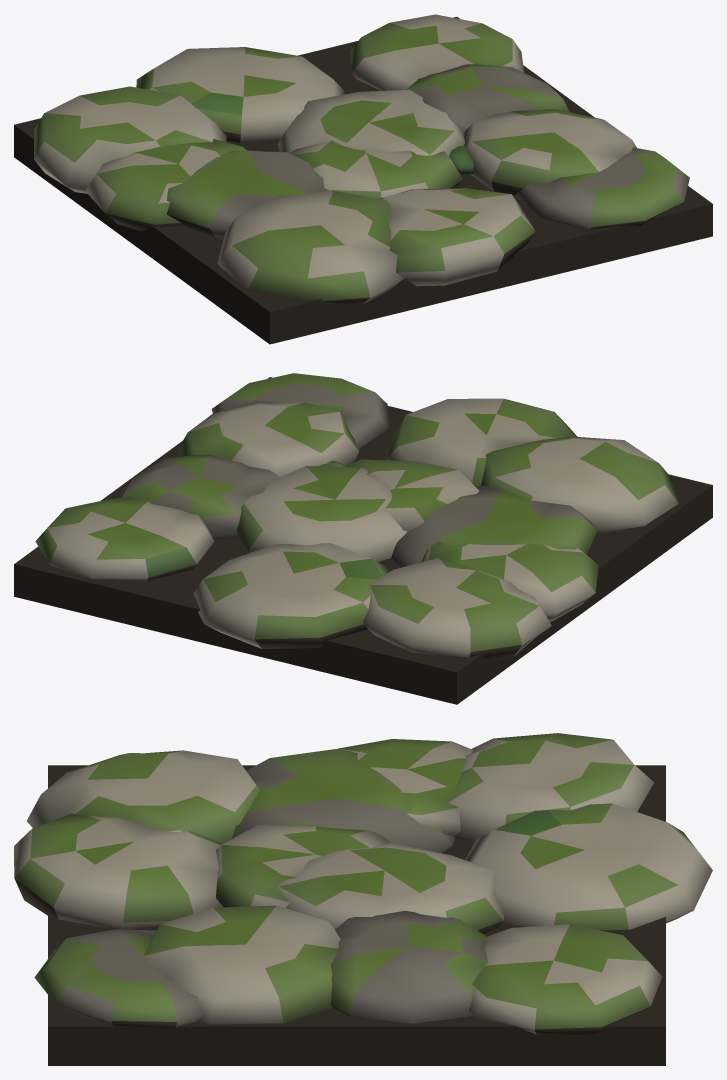
Rendered from kit_corr1.glb.
3 views of the same model, one above another, from view 1: azimuth 30°, elevation 25°; view 2: azimuth 150°, elevation 25°; view 3: azimuth 270°, elevation 25° (orthographic). The views are drawn at different scales.
Parts seen in each view (by area): view 1: kit_corr1; view 2: kit_corr1; view 3: kit_corr1.
Part boxes in pixels (<box>): kit_corr1: <box>14,14,712,344</box>; kit_corr1: <box>14,373,712,704</box>; kit_corr1: <box>14,733,712,1065</box>.
Size of the model in its own units: 1.08 by 0.1436 by 1.13.
